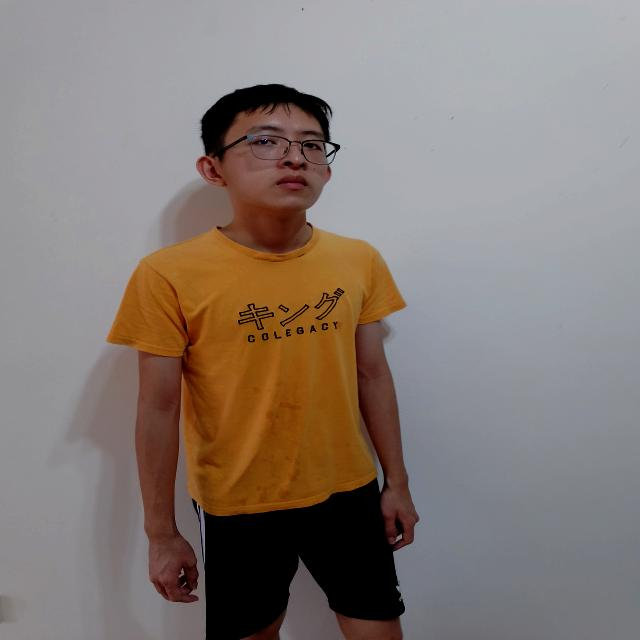person_without_labcoat: (107, 85, 418, 640)
